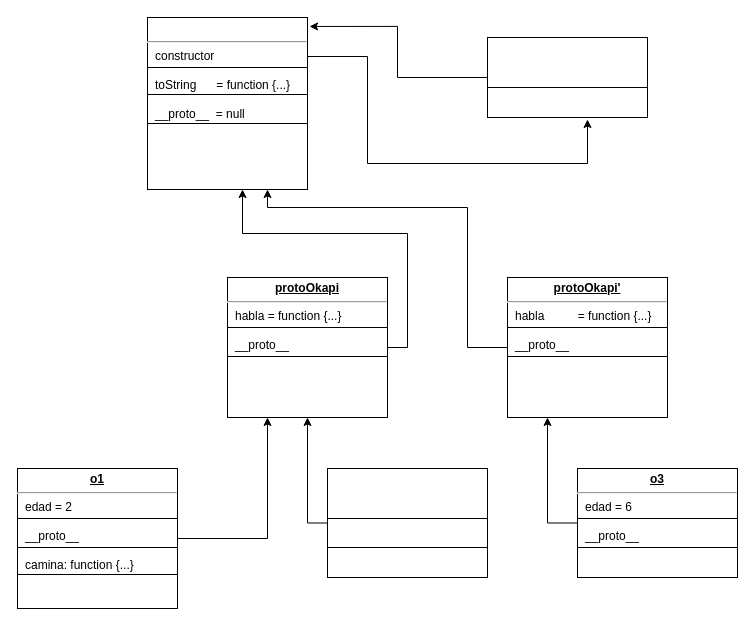
Image size: 755x626. Some labels were removed from this diagram. Here are the shapes that lost their labels. From the top down, the centre of each, then its label:
At pixel 567 77: "Object prototype".
At pixel 407 523: "o2 edad = 4 __proto__".
